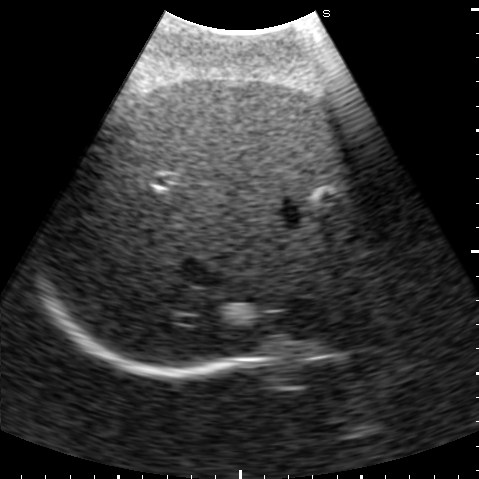S5: (117, 79, 344, 189)
S7: (50, 152, 163, 311)
S8: (109, 166, 382, 365)
Tumor: (223, 302, 255, 329), (308, 186, 339, 203)
